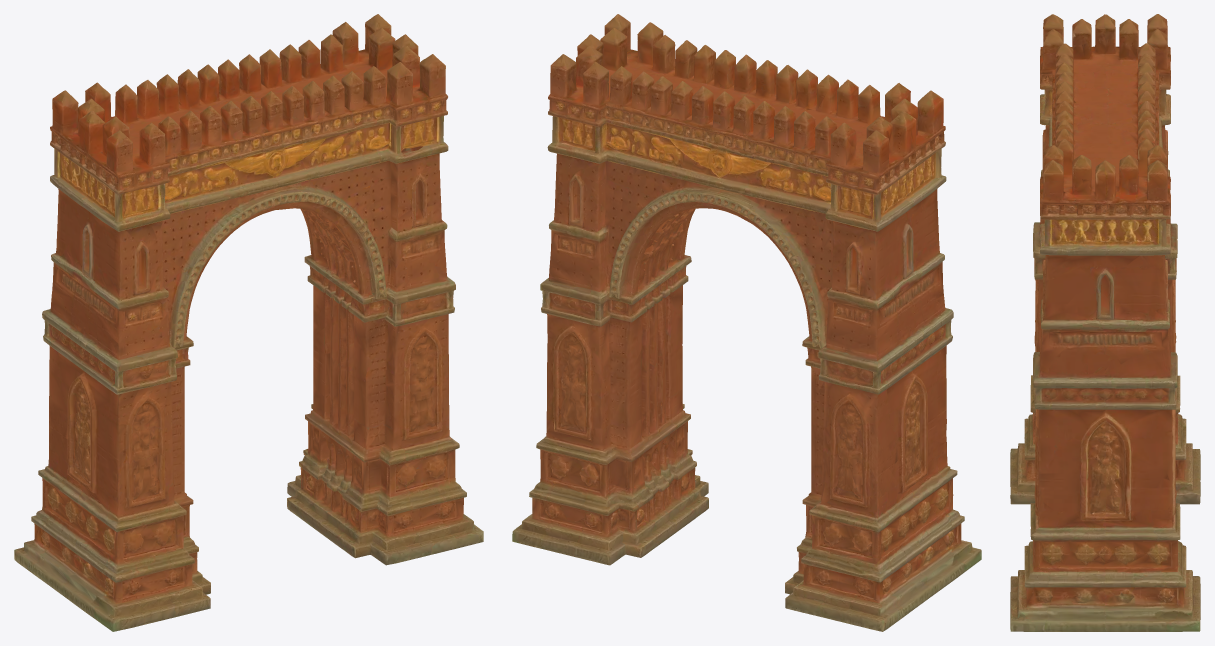
Rendered from GrandArch.glb.
3 views of the same model, side by side, from view 1: azimuth 30°, elevation 25°; view 2: azimuth 150°, elevation 25°; view 3: azimuth 270°, elevation 25° (orthographic). The views are drawn at different scales.
Size of the model in its own units: 1.55 by 1.9 by 0.7157.
1 material, 1 textured.
